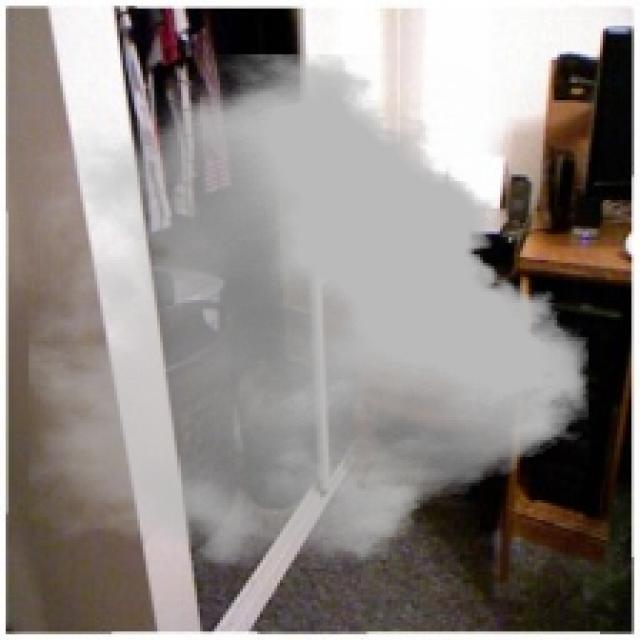Smoke: (29, 54, 588, 569)
